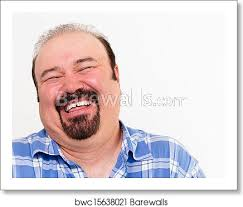white_male: (29, 44, 121, 158)
